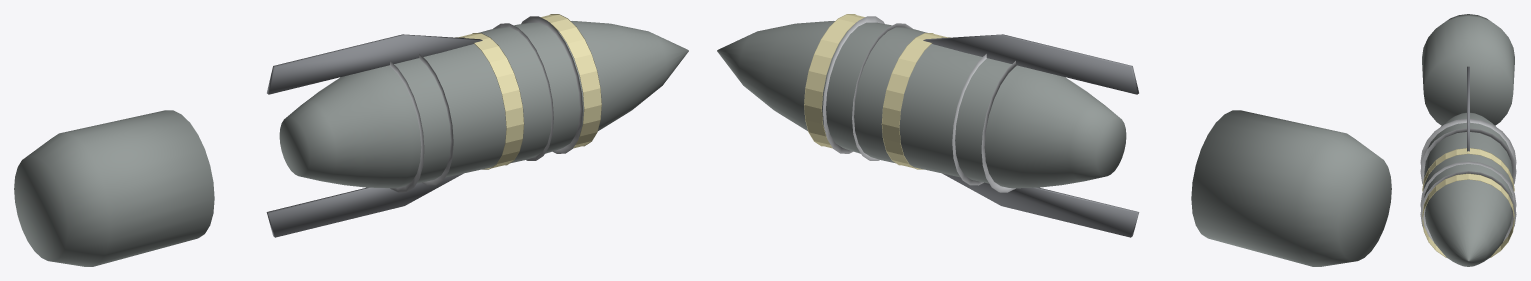
File: US_SLBM_Trident_C4_LOD1.fbx
3 renders of one model, left to right at view 1: azimuth 30°, elevation 25°; view 2: azimuth 150°, elevation 25°; view 3: azimuth 270°, elevation 25°, orthographic. The views are drawn at different scales.
Visible parts, largest first — view 1: WPN_US_SLBM_Trident_C4_LOD1_Body, WPN_US_SLBM_Trident_C4_LOD1_Tail, WPN_US_SLBM_Trident_C4_LOD1_Detail, WPN_US_SLBM_Trident_C4_LOD1_Marking; view 2: WPN_US_SLBM_Trident_C4_LOD1_Body, WPN_US_SLBM_Trident_C4_LOD1_Tail, WPN_US_SLBM_Trident_C4_LOD1_Detail, WPN_US_SLBM_Trident_C4_LOD1_Marking; view 3: WPN_US_SLBM_Trident_C4_LOD1_Body, WPN_US_SLBM_Trident_C4_LOD1_Tail, WPN_US_SLBM_Trident_C4_LOD1_Detail, WPN_US_SLBM_Trident_C4_LOD1_Marking.
Part boxes in pixels (box(x1,y1,x2,y2)): WPN_US_SLBM_Trident_C4_LOD1_Body: box(279, 21, 688, 188); WPN_US_SLBM_Trident_C4_LOD1_Tail: box(14, 110, 214, 266); WPN_US_SLBM_Trident_C4_LOD1_Detail: box(266, 16, 583, 237); WPN_US_SLBM_Trident_C4_LOD1_Marking: box(455, 14, 601, 169); WPN_US_SLBM_Trident_C4_LOD1_Body: box(717, 21, 1126, 188); WPN_US_SLBM_Trident_C4_LOD1_Tail: box(1191, 110, 1391, 266); WPN_US_SLBM_Trident_C4_LOD1_Detail: box(822, 16, 1139, 237); WPN_US_SLBM_Trident_C4_LOD1_Marking: box(804, 14, 950, 169); WPN_US_SLBM_Trident_C4_LOD1_Body: box(1423, 112, 1513, 266); WPN_US_SLBM_Trident_C4_LOD1_Tail: box(1422, 14, 1514, 125); WPN_US_SLBM_Trident_C4_LOD1_Detail: box(1420, 66, 1516, 241); WPN_US_SLBM_Trident_C4_LOD1_Marking: box(1422, 148, 1514, 257).
Bounding box in the file's own units: 10.4 × 1.97 × 2.61.
